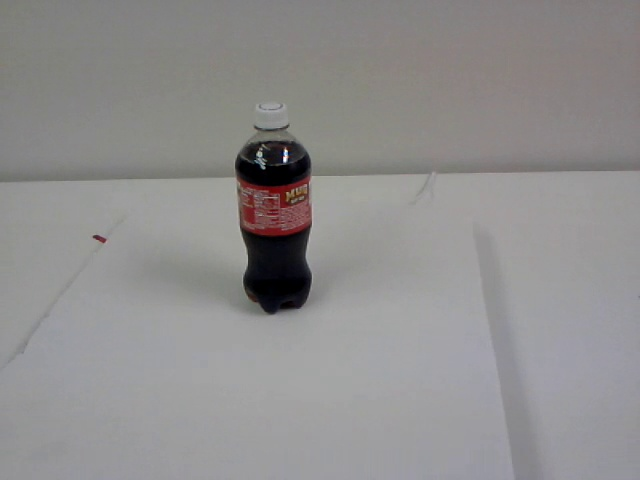botolplastik: (236, 103, 314, 312)
